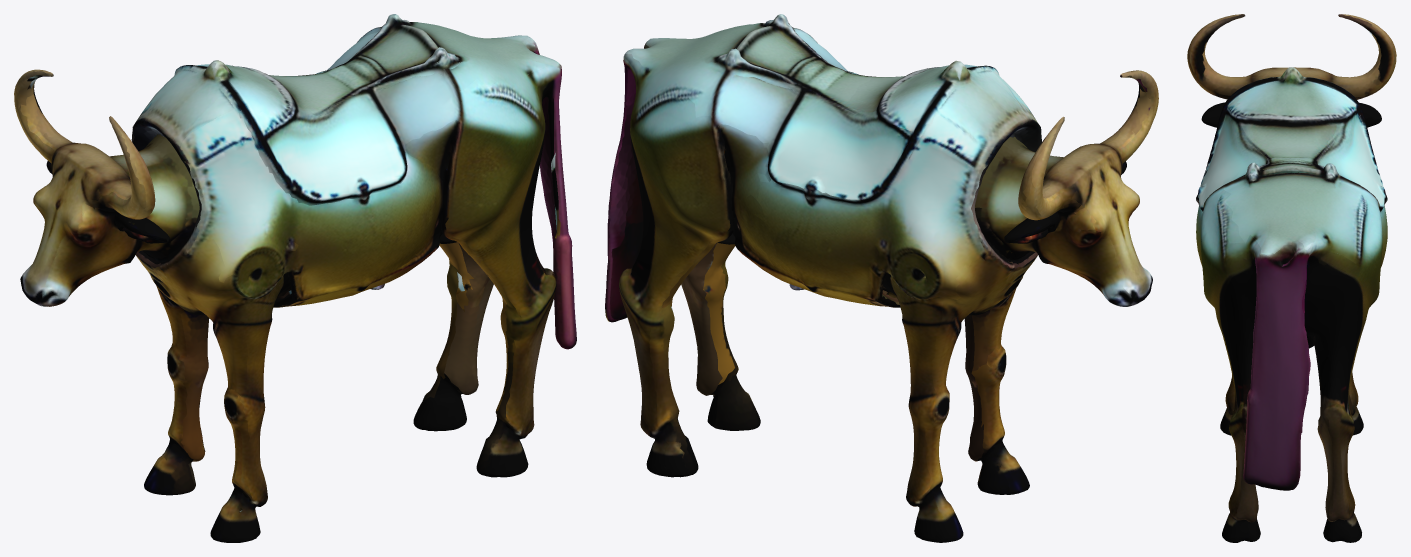
Rendered from mount-farm-ox2-mesh.glb.
3 renders of one model, left to right at view 1: azimuth 30°, elevation 25°; view 2: azimuth 150°, elevation 25°; view 3: azimuth 270°, elevation 25°, orthographic. The views are drawn at different scales.
Visible parts, largest first — view 1: tmpq2e0nmbn.ply; view 2: tmpq2e0nmbn.ply; view 3: tmpq2e0nmbn.ply.
Boxes of the visible parts, x1,y1,x2,y2 form: tmpq2e0nmbn.ply: [14, 14, 576, 542]; tmpq2e0nmbn.ply: [605, 14, 1158, 542]; tmpq2e0nmbn.ply: [1187, 14, 1396, 542].
Bounding box in the file's own units: 0.9876 × 0.7857 × 0.4061.
1 material, 1 textured.
